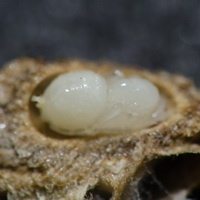insect: (0, 58, 199, 199)
